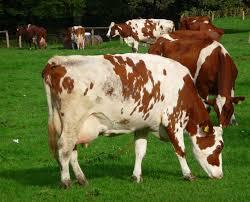cow: (42, 54, 225, 187), (147, 33, 244, 130), (106, 18, 175, 53), (179, 15, 225, 43), (15, 23, 48, 51), (67, 25, 86, 50)
